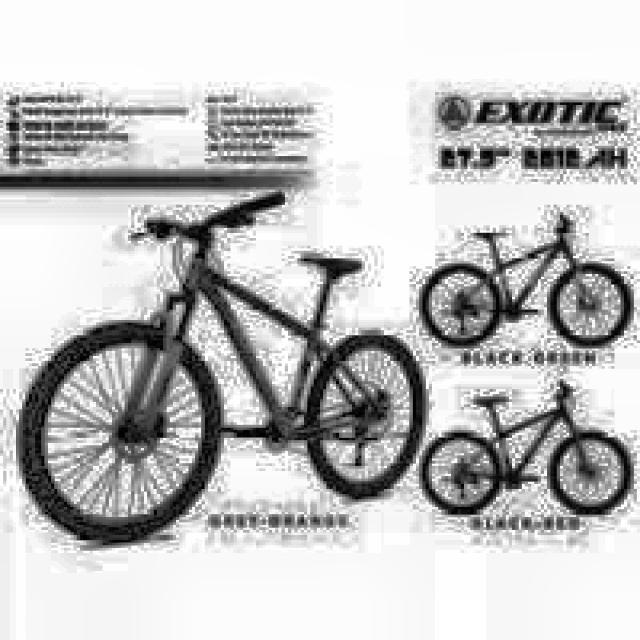bike: (17, 192, 419, 540), (401, 214, 640, 352), (423, 384, 637, 526)
